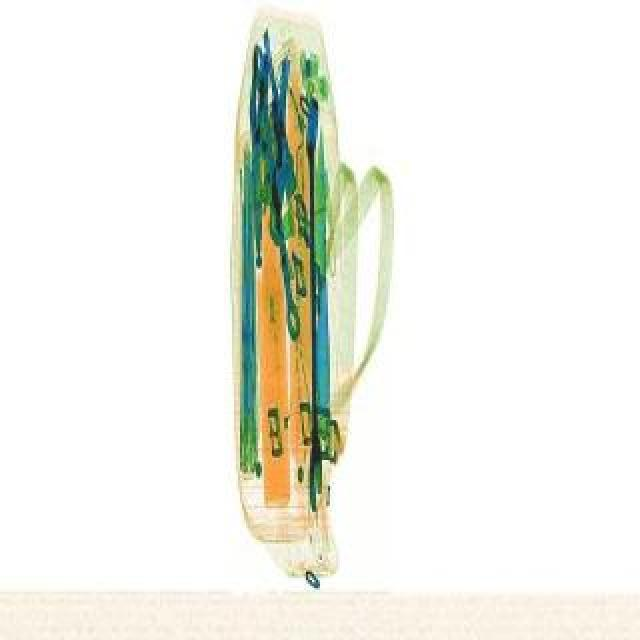gun: (238, 28, 302, 200)
knife: (312, 128, 328, 430)
